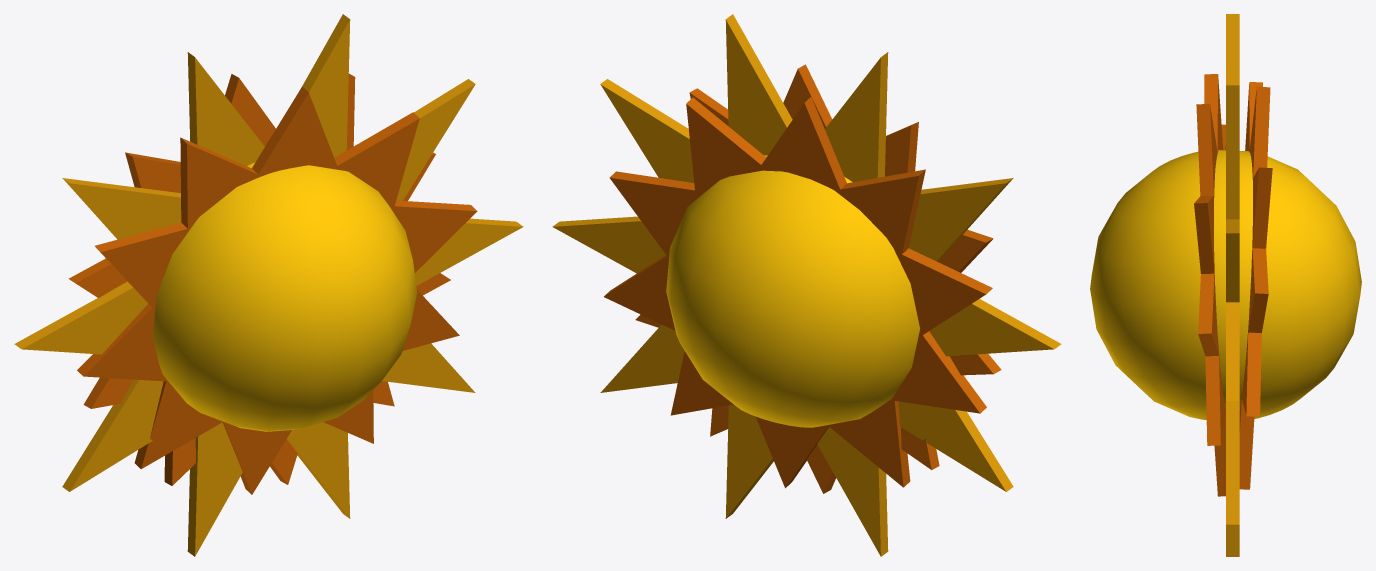
File: sun.dae
The picture shows the model from 3 angles, left to right: view 1: azimuth 30°, elevation 25°; view 2: azimuth 150°, elevation 25°; view 3: azimuth 270°, elevation 25°; orthographic projection. The views are drawn at different scales.
Parts seen in each view (by area): view 1: Cap_1 (×3), Sphere, Extrude.1, Extrude.2, Extrude; view 2: Cap_2 (×3), Sphere, Extrude.1, Extrude, Extrude.2; view 3: Sphere, Extrude.1, Extrude.2, Extrude, Cap_2, Cap_1.
Boxes of the visible parts, bbox=[...] form: Cap_1 (×3): bbox=[22, 19, 522, 556]; Sphere: bbox=[153, 162, 417, 431]; Extrude.1: bbox=[14, 14, 523, 556]; Extrude.2: bbox=[77, 86, 477, 494]; Extrude: bbox=[68, 73, 435, 485]; Cap_2 (×3): bbox=[553, 19, 1053, 556]; Sphere: bbox=[666, 155, 919, 427]; Extrude.1: bbox=[552, 14, 1061, 556]; Extrude: bbox=[605, 97, 992, 487]; Extrude.2: bbox=[690, 64, 1001, 493]; Sphere: bbox=[1090, 150, 1361, 419]; Extrude.1: bbox=[1226, 14, 1239, 556]; Extrude.2: bbox=[1194, 74, 1225, 496]; Extrude: bbox=[1239, 82, 1272, 489]; Cap_2: bbox=[1207, 74, 1225, 442]; Cap_1: bbox=[1239, 84, 1258, 432].
Size of the model in its own units: 400 by 380 by 199.
